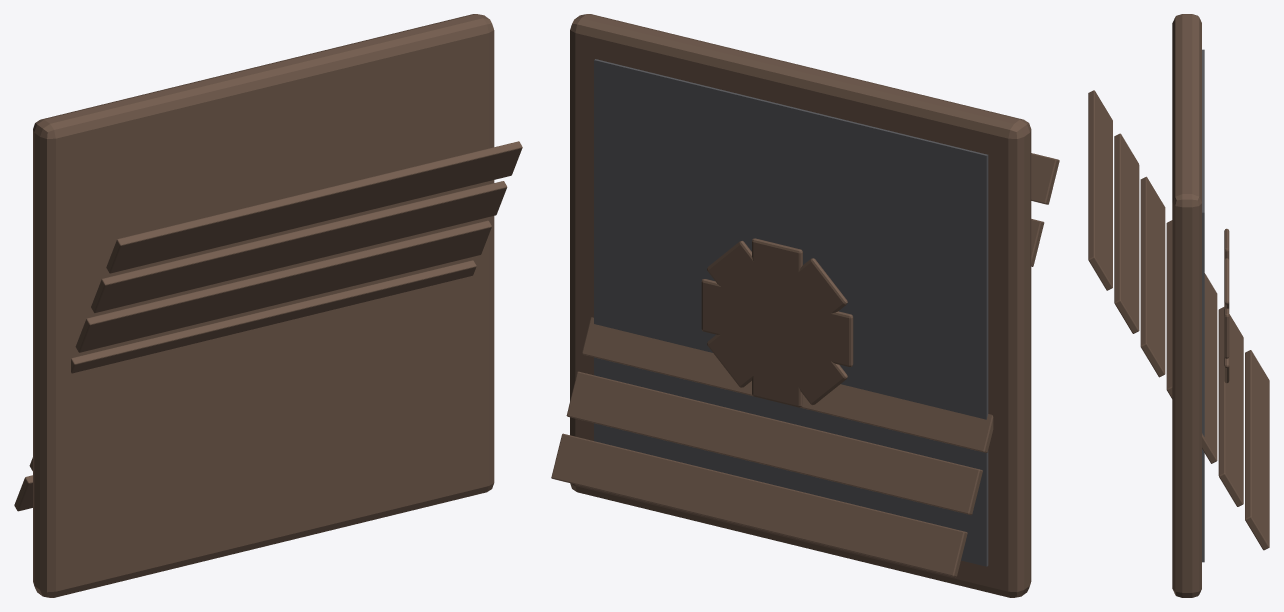
3 views of the same model, side by side, from view 1: azimuth 30°, elevation 25°; view 2: azimuth 150°, elevation 25°; view 3: azimuth 270°, elevation 25° (orthographic). The views are drawn at different scales.
Parts seen in each view (by area): view 1: wallVent; view 2: wallVent; view 3: wallVent.
Boxes of the visible parts, <box> form: wallVent: <box>14,14,522,597</box>; wallVent: <box>551,14,1059,597</box>; wallVent: <box>1088,14,1269,597</box>.
Bounding box in the file's own units: 0.9 × 0.9 × 0.3663.
